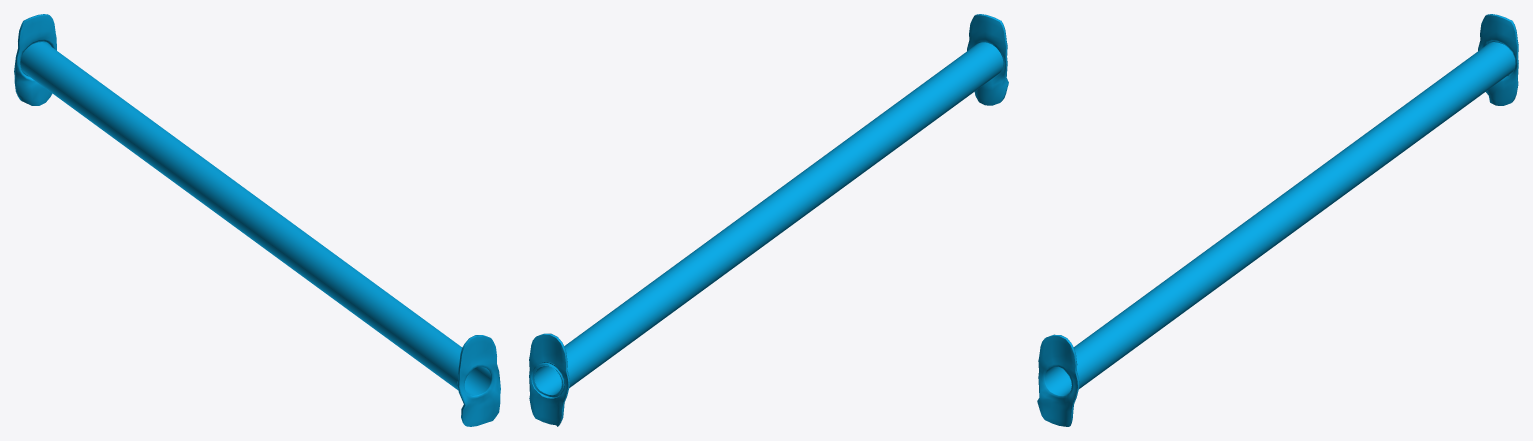
Rendered from 1m Ledger.fbx.
The picture shows the model from 3 angles, left to right: view 1: azimuth 30°, elevation 25°; view 2: azimuth 150°, elevation 25°; view 3: azimuth 330°, elevation 25°; orthographic projection.
Visible parts, largest first — view 1: m_Ledger:Horizontal_ledgers_and_transoms:polySurface20; view 2: m_Ledger:Horizontal_ledgers_and_transoms:polySurface20; view 3: m_Ledger:Horizontal_ledgers_and_transoms:polySurface20.
Boxes of the visible parts, <box> form: m_Ledger:Horizontal_ledgers_and_transoms:polySurface20: <box>14,14,500,426</box>; m_Ledger:Horizontal_ledgers_and_transoms:polySurface20: <box>529,14,1008,426</box>; m_Ledger:Horizontal_ledgers_and_transoms:polySurface20: <box>1037,14,1518,426</box>.
Bounding box in the file's own units: 0.0546 × 0.1127 × 1.02.
